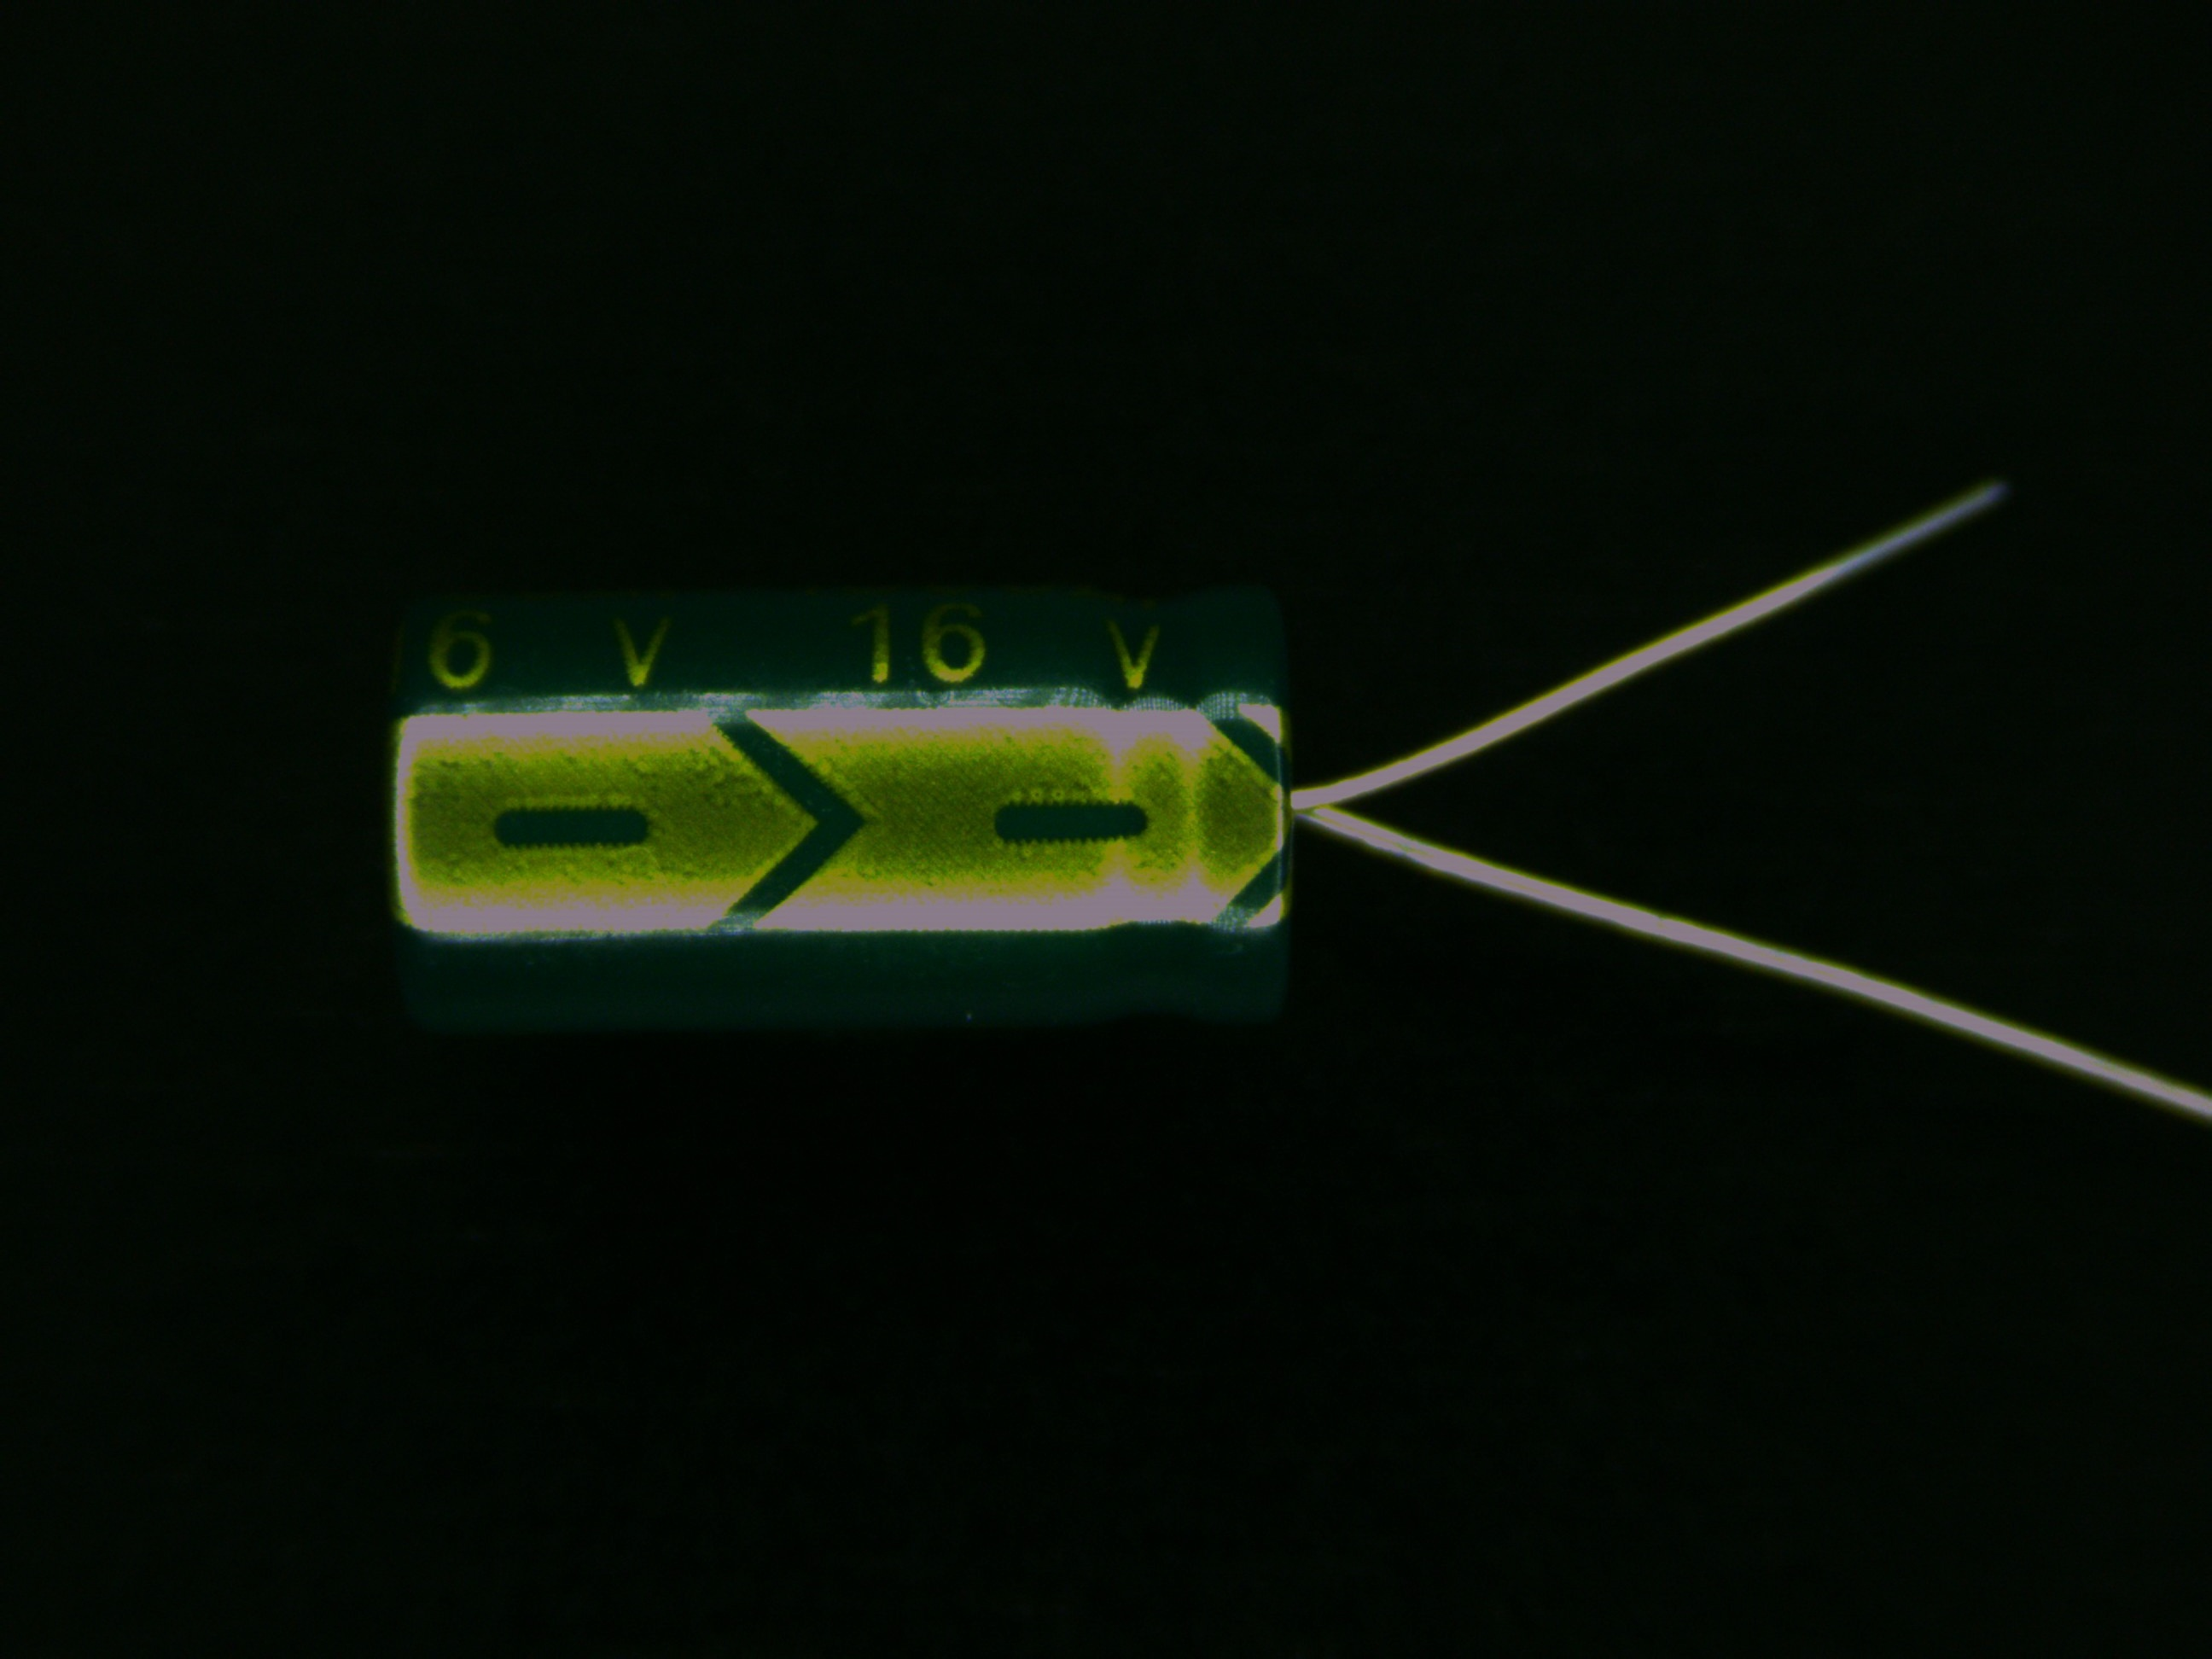c1: (387, 577, 1536, 1039)
